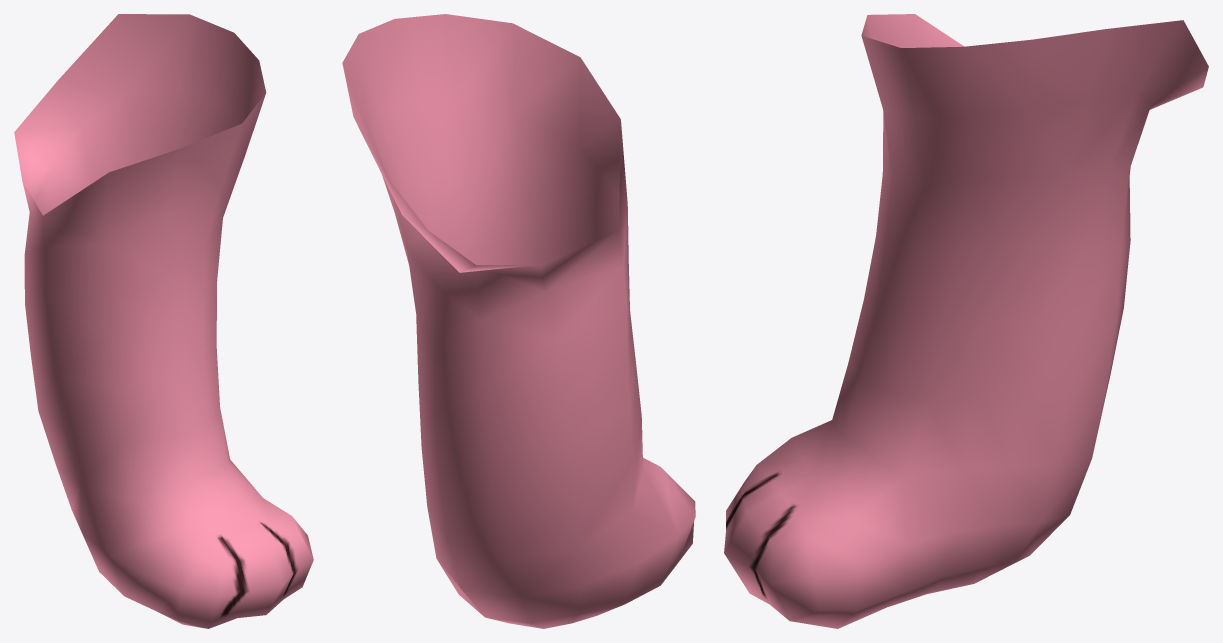
Rendered from Leon Pata DelDer.obj.
The picture shows the model from 3 angles, left to right: view 1: azimuth 30°, elevation 25°; view 2: azimuth 150°, elevation 25°; view 3: azimuth 270°, elevation 25°; orthographic projection. The views are drawn at different scales.
Parts seen in each view (by area): view 1: Pata_delantera_derecha; view 2: Pata_delantera_derecha; view 3: Pata_delantera_derecha.
Part boxes in pixels (bbox=[...]): Pata_delantera_derecha: bbox=[14, 14, 313, 628]; Pata_delantera_derecha: bbox=[342, 14, 695, 628]; Pata_delantera_derecha: bbox=[724, 14, 1208, 628].
Size of the model in its own units: 11.37 by 26.11 by 18.44.
